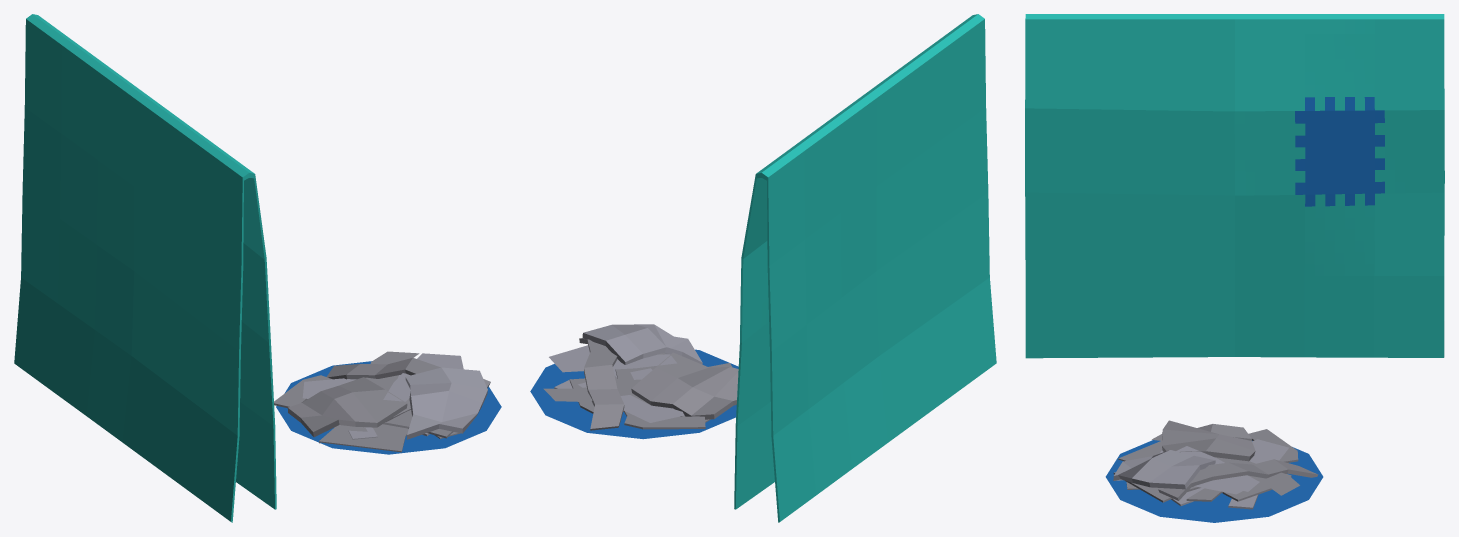
Rendered from offobjects_laundry.fbx.
The picture shows the model from 3 angles, left to right: view 1: azimuth 30°, elevation 25°; view 2: azimuth 150°, elevation 25°; view 3: azimuth 270°, elevation 25°; orthographic projection. The views are drawn at different scales.
Parts seen in each view (by area): view 1: Plane.015; view 2: Plane.015; view 3: Plane.015.
Part boxes in pixels (box(x1,y1,x2,y2)): Plane.015: box(14, 14, 501, 522); Plane.015: box(530, 14, 996, 522); Plane.015: box(1025, 14, 1444, 522).
Bounding box in the file's own units: 614 × 607 × 654.
